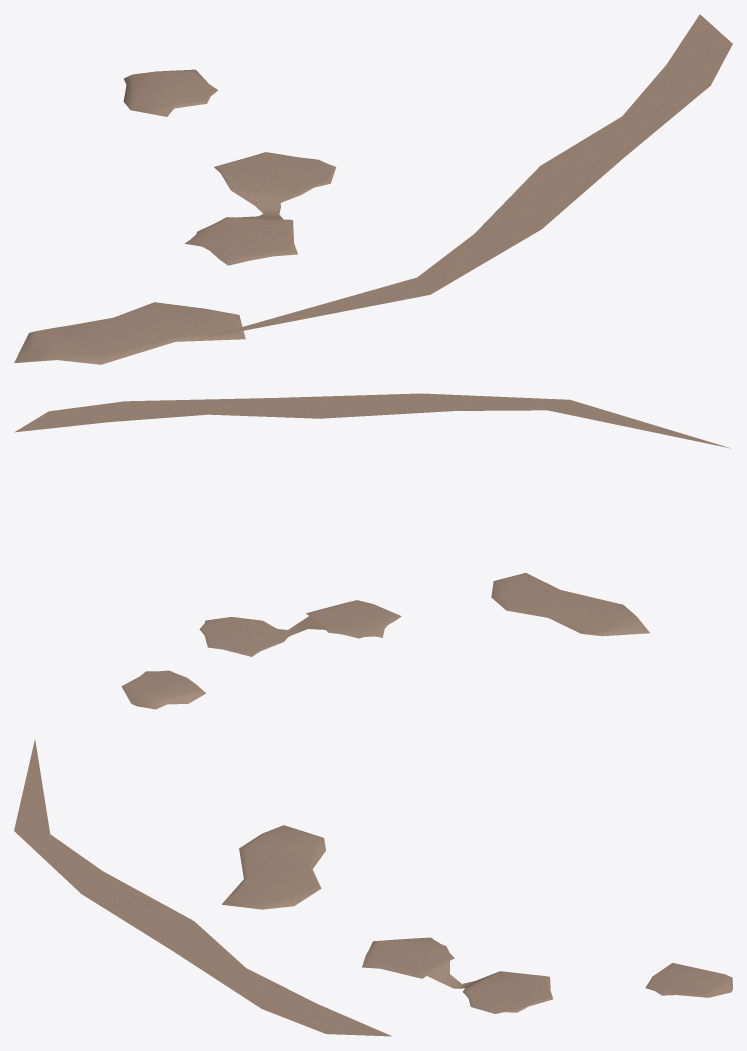
Rendered from kd_stage_13612f_0_13.glb.
The picture shows the model from 3 angles, top to bottom: view 1: azimuth 30°, elevation 25°; view 2: azimuth 150°, elevation 25°; view 3: azimuth 270°, elevation 25°; orthographic projection. The views are drawn at different scales.
Parts seen in each view (by area): view 1: kd_stage_13612f_0_13; view 2: kd_stage_13612f_0_13; view 3: kd_stage_13612f_0_13.
Boxes of the visible parts, x1,y1,x2,y2 form: kd_stage_13612f_0_13: (14,14,732,364); kd_stage_13612f_0_13: (14,393,731,709); kd_stage_13612f_0_13: (14,739,732,1036).
Size of the model in its own units: 93.68 by 15.81 by 90.51.
Materials: 1 (1 with a texture image).
